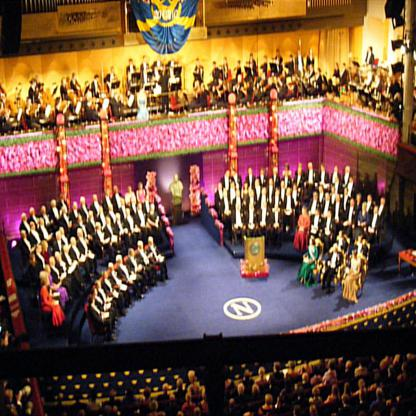face: (8, 391, 14, 403), (17, 393, 23, 401), (276, 188, 281, 196), (285, 167, 289, 176), (353, 249, 358, 256), (46, 277, 50, 285), (95, 289, 99, 296), (32, 223, 36, 230), (251, 191, 255, 198), (263, 188, 267, 195), (326, 194, 330, 201), (347, 167, 351, 174), (374, 207, 378, 214), (303, 208, 307, 215), (334, 246, 338, 253), (287, 188, 291, 195), (93, 297, 96, 305), (98, 282, 102, 288), (105, 271, 108, 279), (45, 243, 49, 249), (58, 234, 62, 240), (79, 218, 83, 224), (110, 205, 114, 211), (83, 200, 87, 206), (107, 191, 111, 197), (249, 168, 253, 174), (256, 180, 260, 186), (314, 194, 318, 200), (336, 196, 340, 202), (309, 163, 313, 169), (368, 196, 372, 202), (382, 199, 386, 205), (328, 212, 332, 218), (359, 237, 363, 243), (132, 250, 135, 257), (49, 268, 52, 275), (59, 253, 62, 260), (73, 239, 76, 246), (81, 231, 84, 238), (43, 207, 46, 214), (282, 181, 285, 188), (299, 168, 302, 175), (333, 187, 336, 194), (352, 200, 355, 207), (270, 179, 273, 186), (94, 195, 98, 200), (150, 241, 154, 246), (232, 170, 236, 175), (224, 192, 228, 197), (335, 167, 339, 172), (112, 265, 115, 271), (120, 258, 123, 264), (53, 259, 56, 265), (66, 247, 69, 253), (98, 224, 101, 230), (108, 218, 111, 224), (118, 215, 121, 221), (33, 256, 36, 262), (39, 246, 42, 252), (62, 230, 65, 236), (139, 204, 142, 210), (63, 208, 66, 214), (75, 205, 78, 211), (53, 201, 56, 207), (25, 216, 28, 222), (152, 206, 155, 212), (232, 183, 235, 189), (237, 191, 240, 197), (320, 187, 323, 193), (350, 177, 353, 183), (345, 189, 348, 195), (358, 195, 361, 201), (363, 205, 366, 211), (24, 232, 27, 238), (141, 244, 144, 249), (91, 214, 94, 219), (132, 198, 135, 203), (123, 200, 126, 205), (42, 221, 45, 226), (129, 188, 132, 193), (33, 211, 36, 216), (141, 184, 144, 189), (116, 188, 119, 193), (227, 172, 230, 177), (220, 185, 223, 190), (245, 185, 248, 190), (262, 170, 265, 175), (274, 170, 277, 175), (294, 185, 297, 190), (316, 211, 319, 216), (322, 166, 325, 171), (310, 240, 313, 245), (340, 232, 343, 237), (101, 208, 104, 212), (128, 211, 131, 215), (63, 195, 65, 200)
